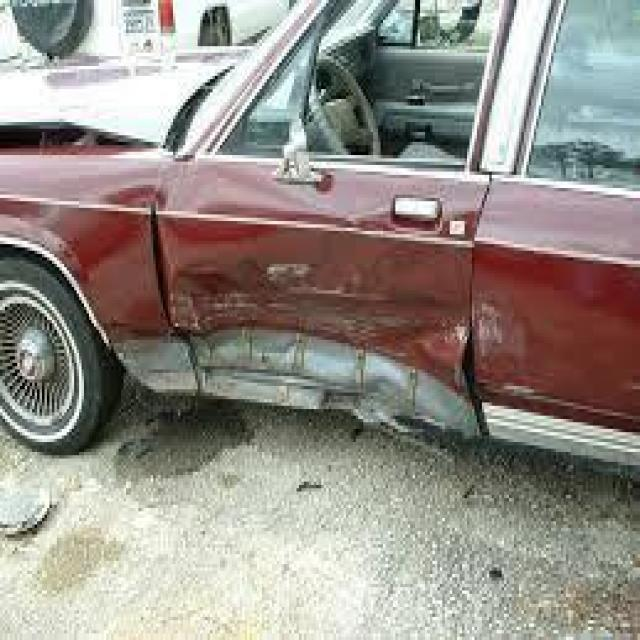damaged: (111, 194, 502, 438), (494, 379, 539, 396)
